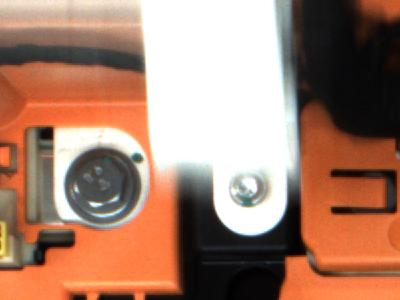nut_b: (64, 150, 143, 225)
